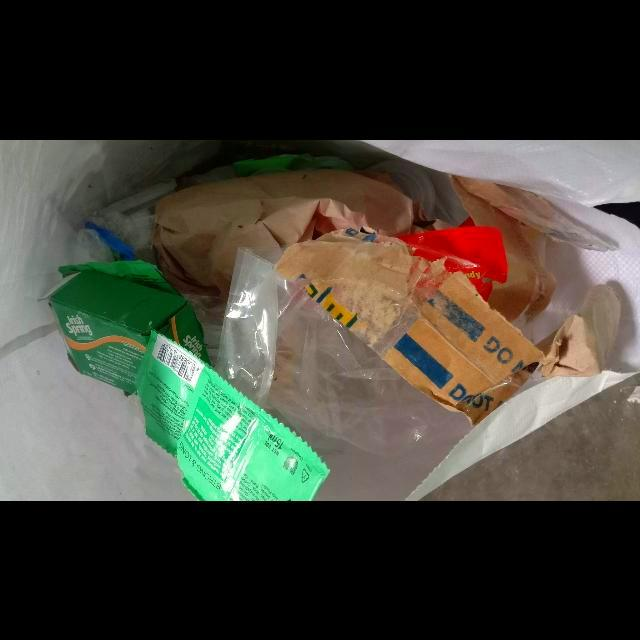cardboard: (38, 269, 212, 394)
paper: (152, 169, 414, 298)
plastic_bag: (218, 248, 476, 459)
plastic_sachet: (135, 331, 331, 501), (58, 259, 179, 294)
